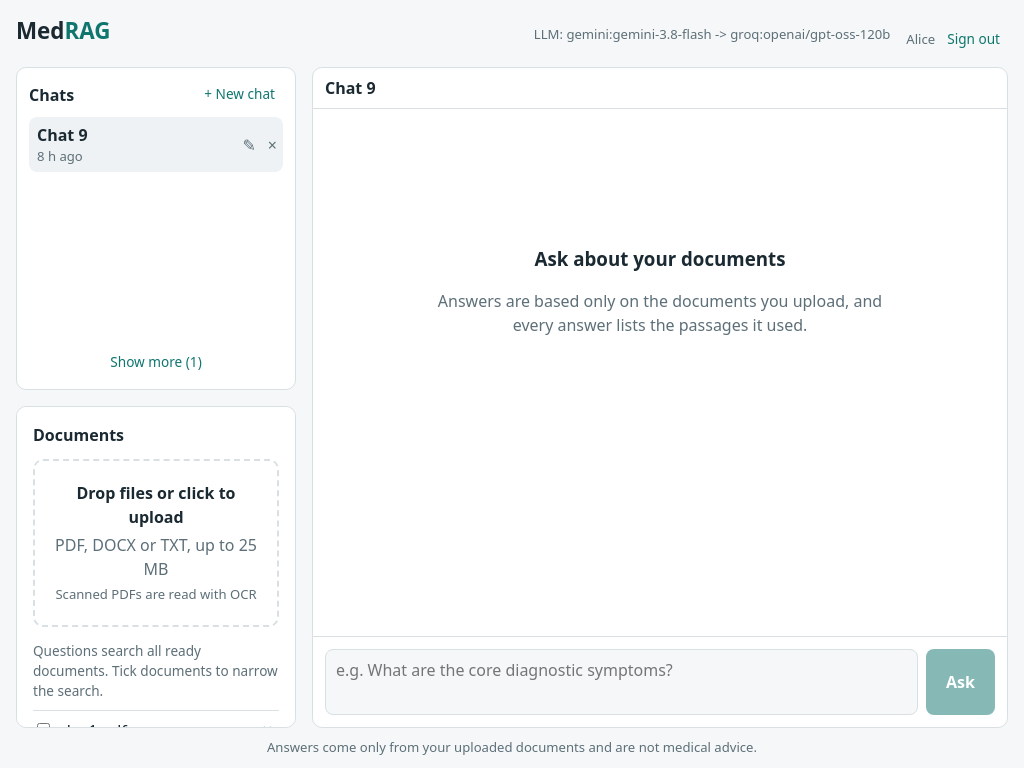
chats › loads more chats
Click the button "Show more (1)": (156, 363) [102,348,210,377]
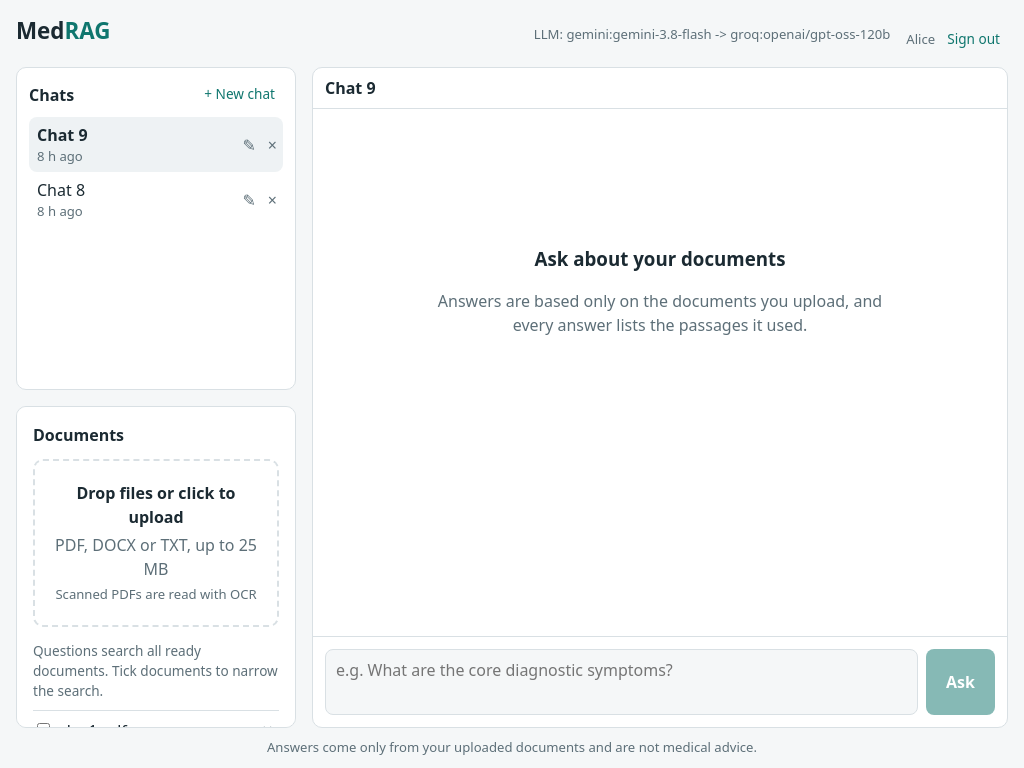
Expected: the button "Chat 8 8 h ago" is shown, [29,172,234,228]
Expected: the button "Show more" is gone
